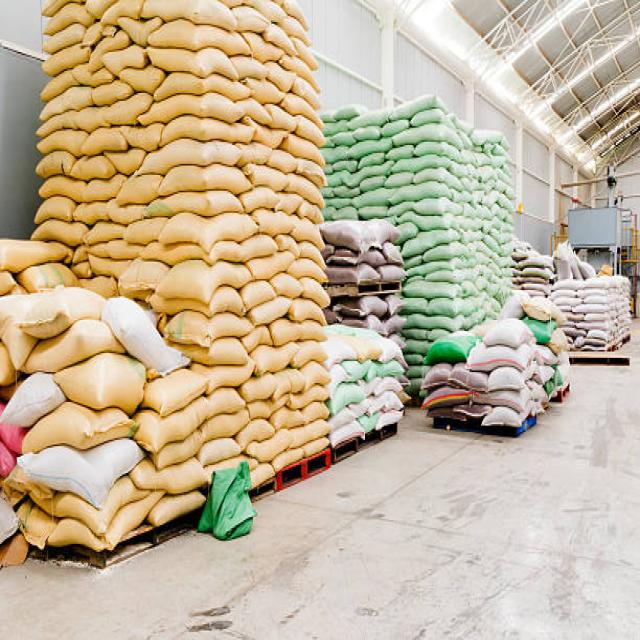Wooden-Pallets: (103, 500, 204, 579), (272, 439, 334, 502)
